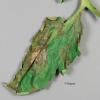Tomato leaf late blight: (3, 7, 82, 95)
